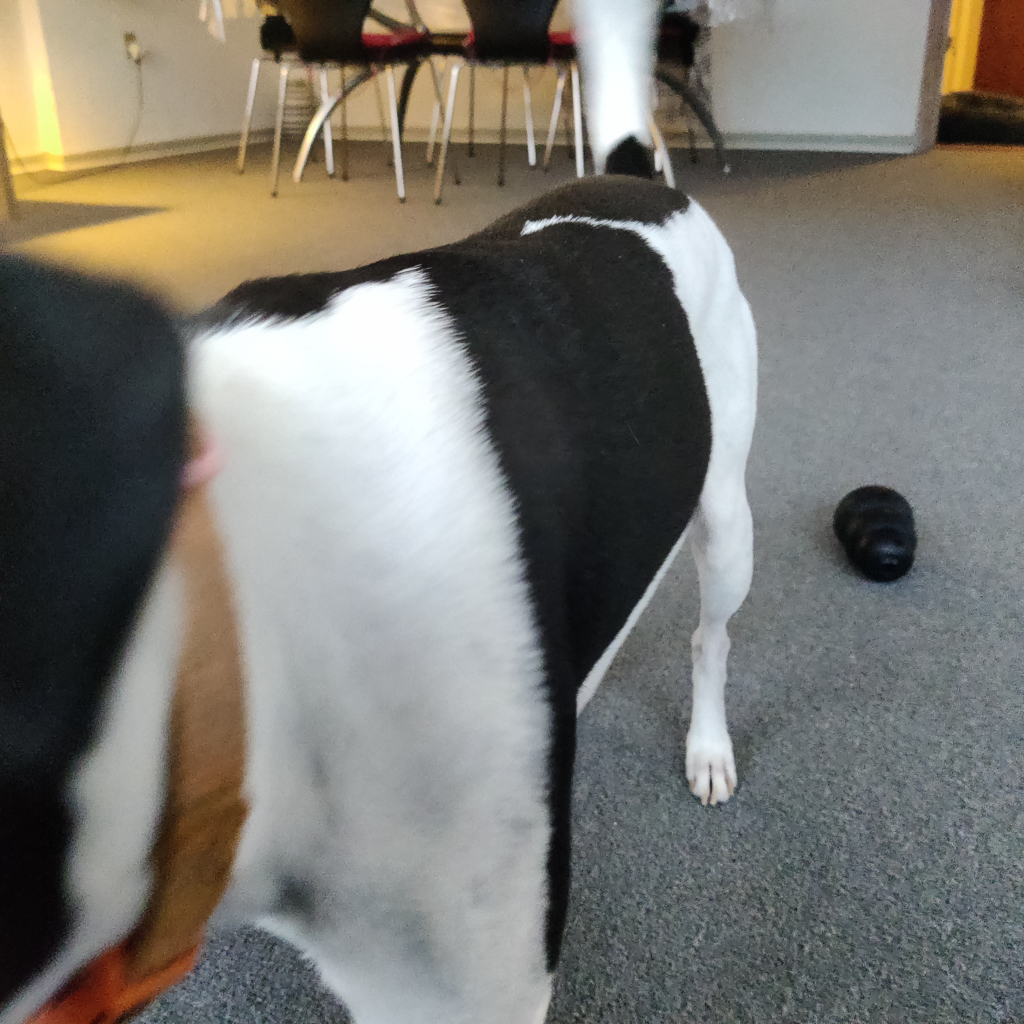Dog: (0, 0, 780, 1024)
